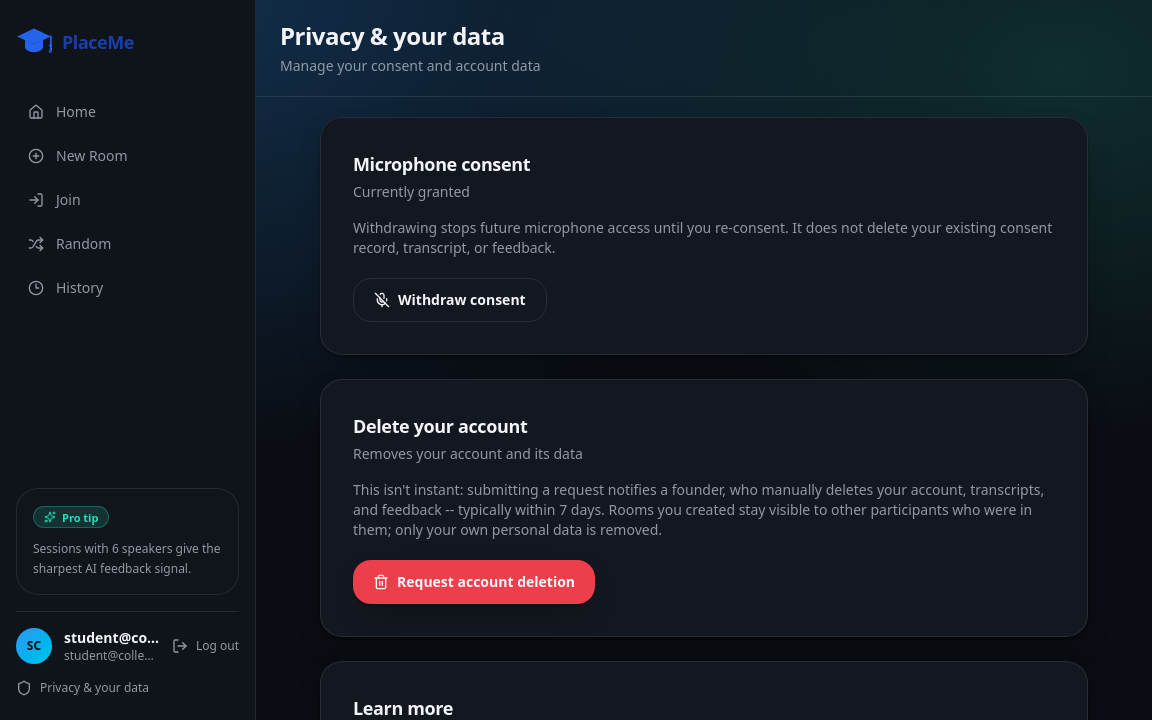
Test case: AccountPage — Privacy & your data › withdraws consent and shows the confirmation banner
Click the button "Withdraw consent" at (450, 300), box [353, 278, 547, 322]
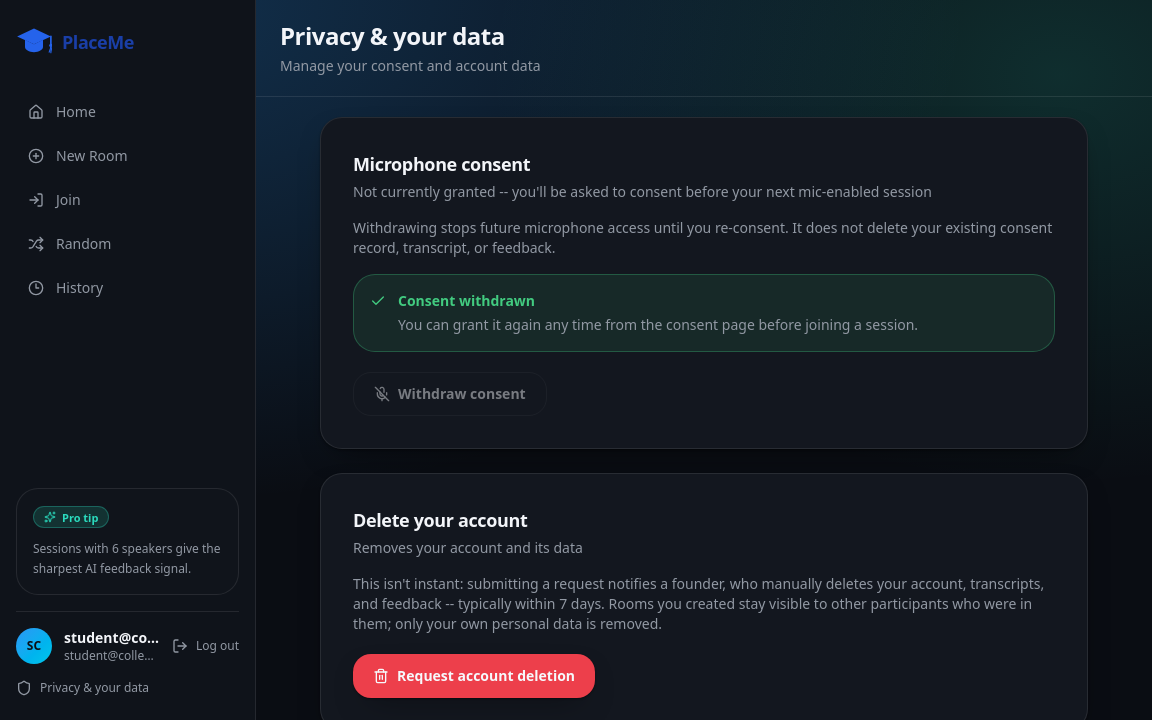
Check: the text "Consent withdrawn" is shown, box [398, 291, 535, 310]
